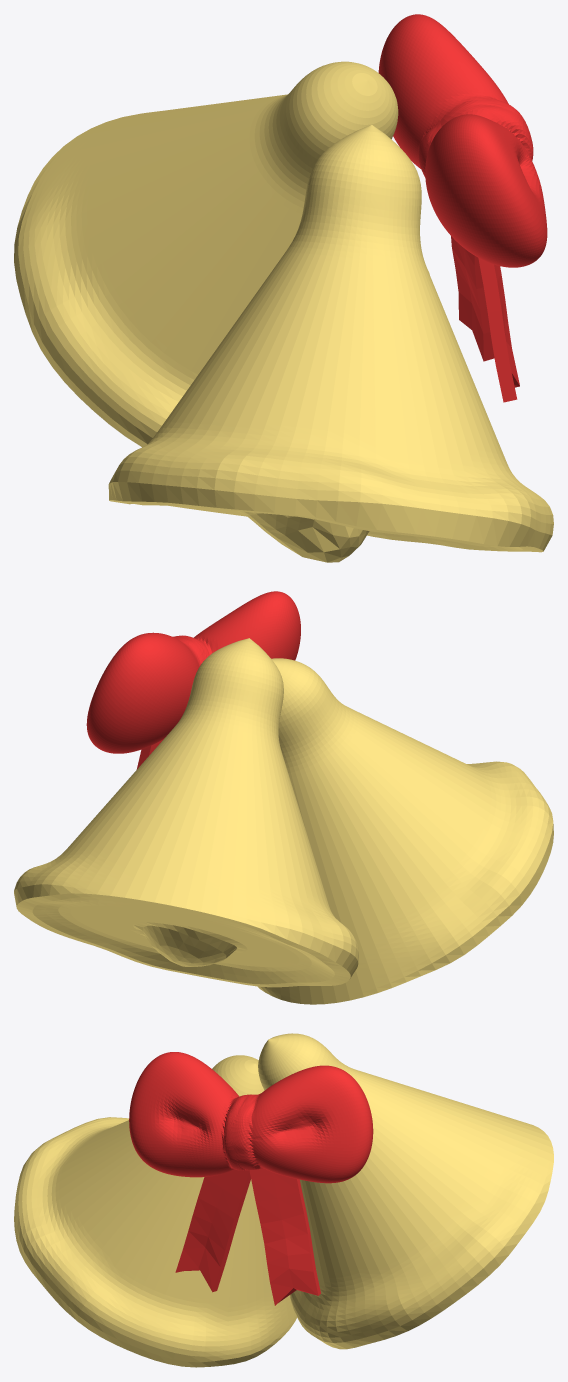
File: decoration_6_1.glb
3 views of the same model, one above another, from view 1: azimuth 30°, elevation 25°; view 2: azimuth 150°, elevation 25°; view 3: azimuth 270°, elevation 25° (orthographic). The views are drawn at different scales.
Parts seen in each view (by area): view 1: Cone, Cone 1, Sphere 2; view 2: Cone 1, Cone, Sphere 2; view 3: Cone 1, Cone, Sphere 2.
Part boxes in pixels (left/top/right/bottom): Cone: left=108, top=124, right=553, bottom=562; Cone 1: left=14, top=61, right=429, bottom=447; Sphere 2: left=378, top=14, right=547, bottom=402; Cone 1: left=14, top=638, right=358, bottom=987; Cone: left=257, top=658, right=553, bottom=1004; Sphere 2: left=86, top=591, right=300, bottom=769; Cone 1: left=258, top=1033, right=553, bottom=1349; Cone: left=14, top=1055, right=297, bottom=1367; Sphere 2: left=129, top=1052, right=373, bottom=1305.
Size of the model in its own units: 0.3793 by 0.3603 by 0.5472.
